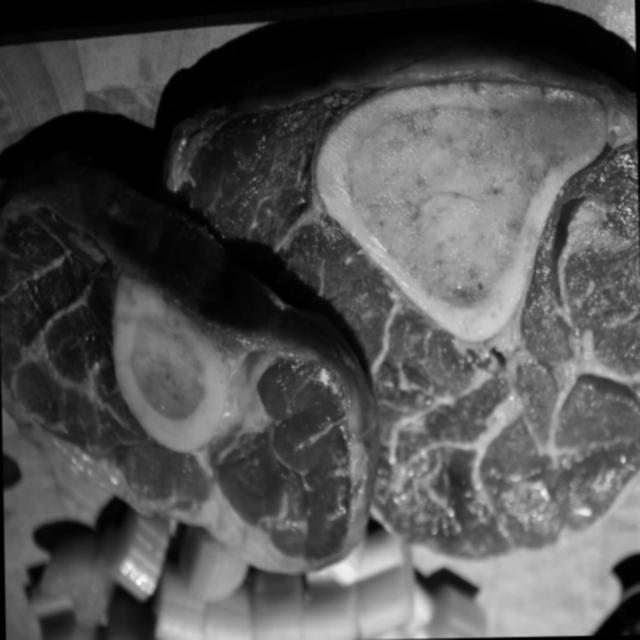ham hock: (157, 32, 640, 523)
